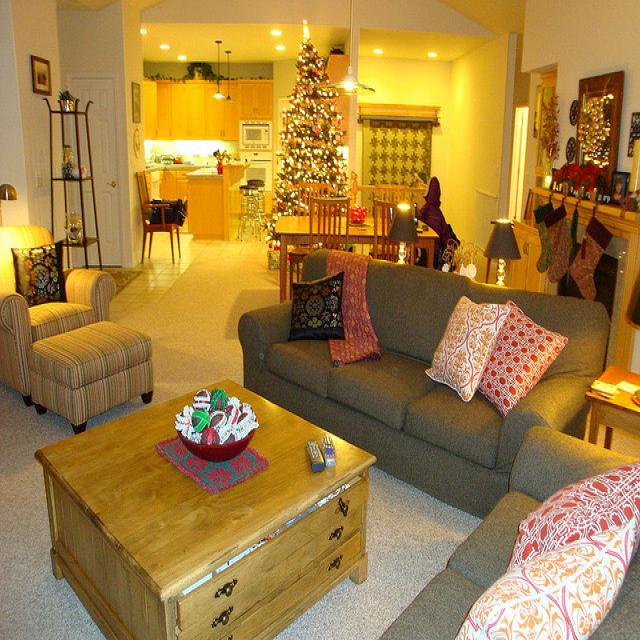chair: (0, 224, 112, 404), (137, 170, 182, 265), (308, 196, 349, 252), (373, 197, 399, 262), (298, 181, 337, 215), (376, 183, 406, 204)
dining table: (275, 215, 439, 303)
